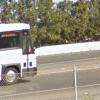Bus: (2, 19, 41, 85)
